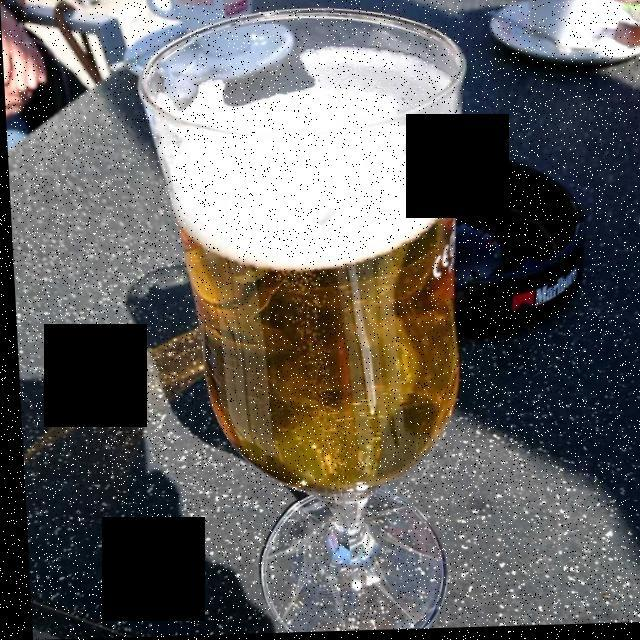drink: (157, 47, 456, 482)
